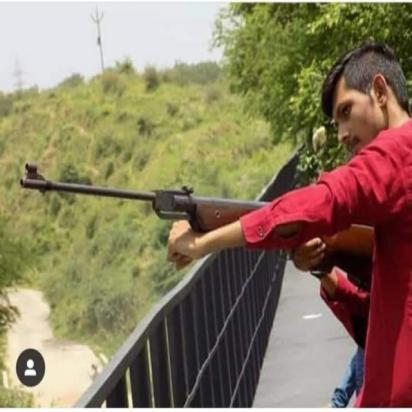Gun: (19, 161, 383, 288)
